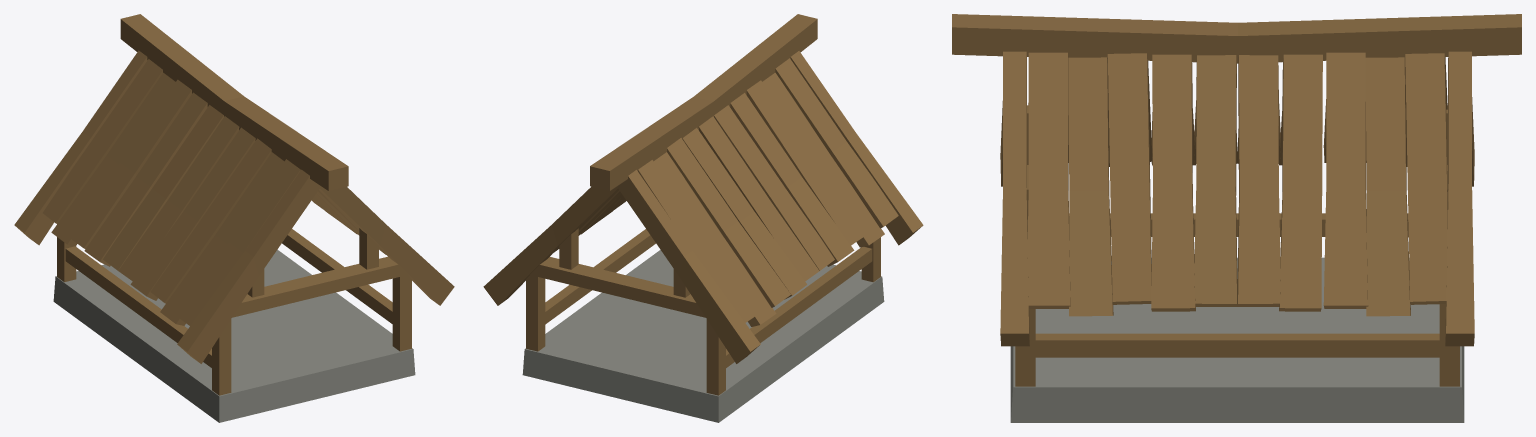
File: Hut-4MJWbyd6vw.glb
The picture shows the model from 3 angles, left to right: view 1: azimuth 30°, elevation 25°; view 2: azimuth 150°, elevation 25°; view 3: azimuth 270°, elevation 25°; orthographic projection. The views are drawn at different scales.
Visible parts, largest first — view 1: Houses_FirstAge_1_Level2; view 2: Houses_FirstAge_1_Level2; view 3: Houses_FirstAge_1_Level2.
Boxes of the visible parts, x1,y1,x2,y2 form: Houses_FirstAge_1_Level2: (14, 14, 454, 422); Houses_FirstAge_1_Level2: (483, 14, 923, 422); Houses_FirstAge_1_Level2: (952, 14, 1521, 422).
Size of the model in its own units: 0.8693 by 0.7645 by 1.17.
